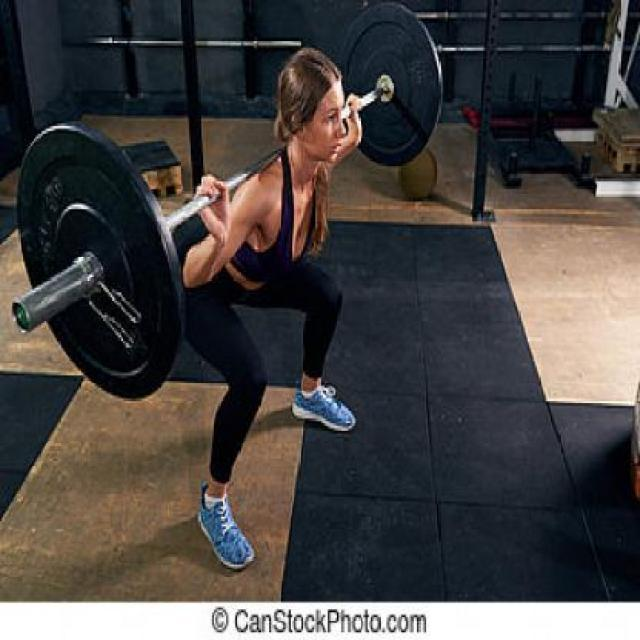Barbell: (10, 298, 33, 336)
